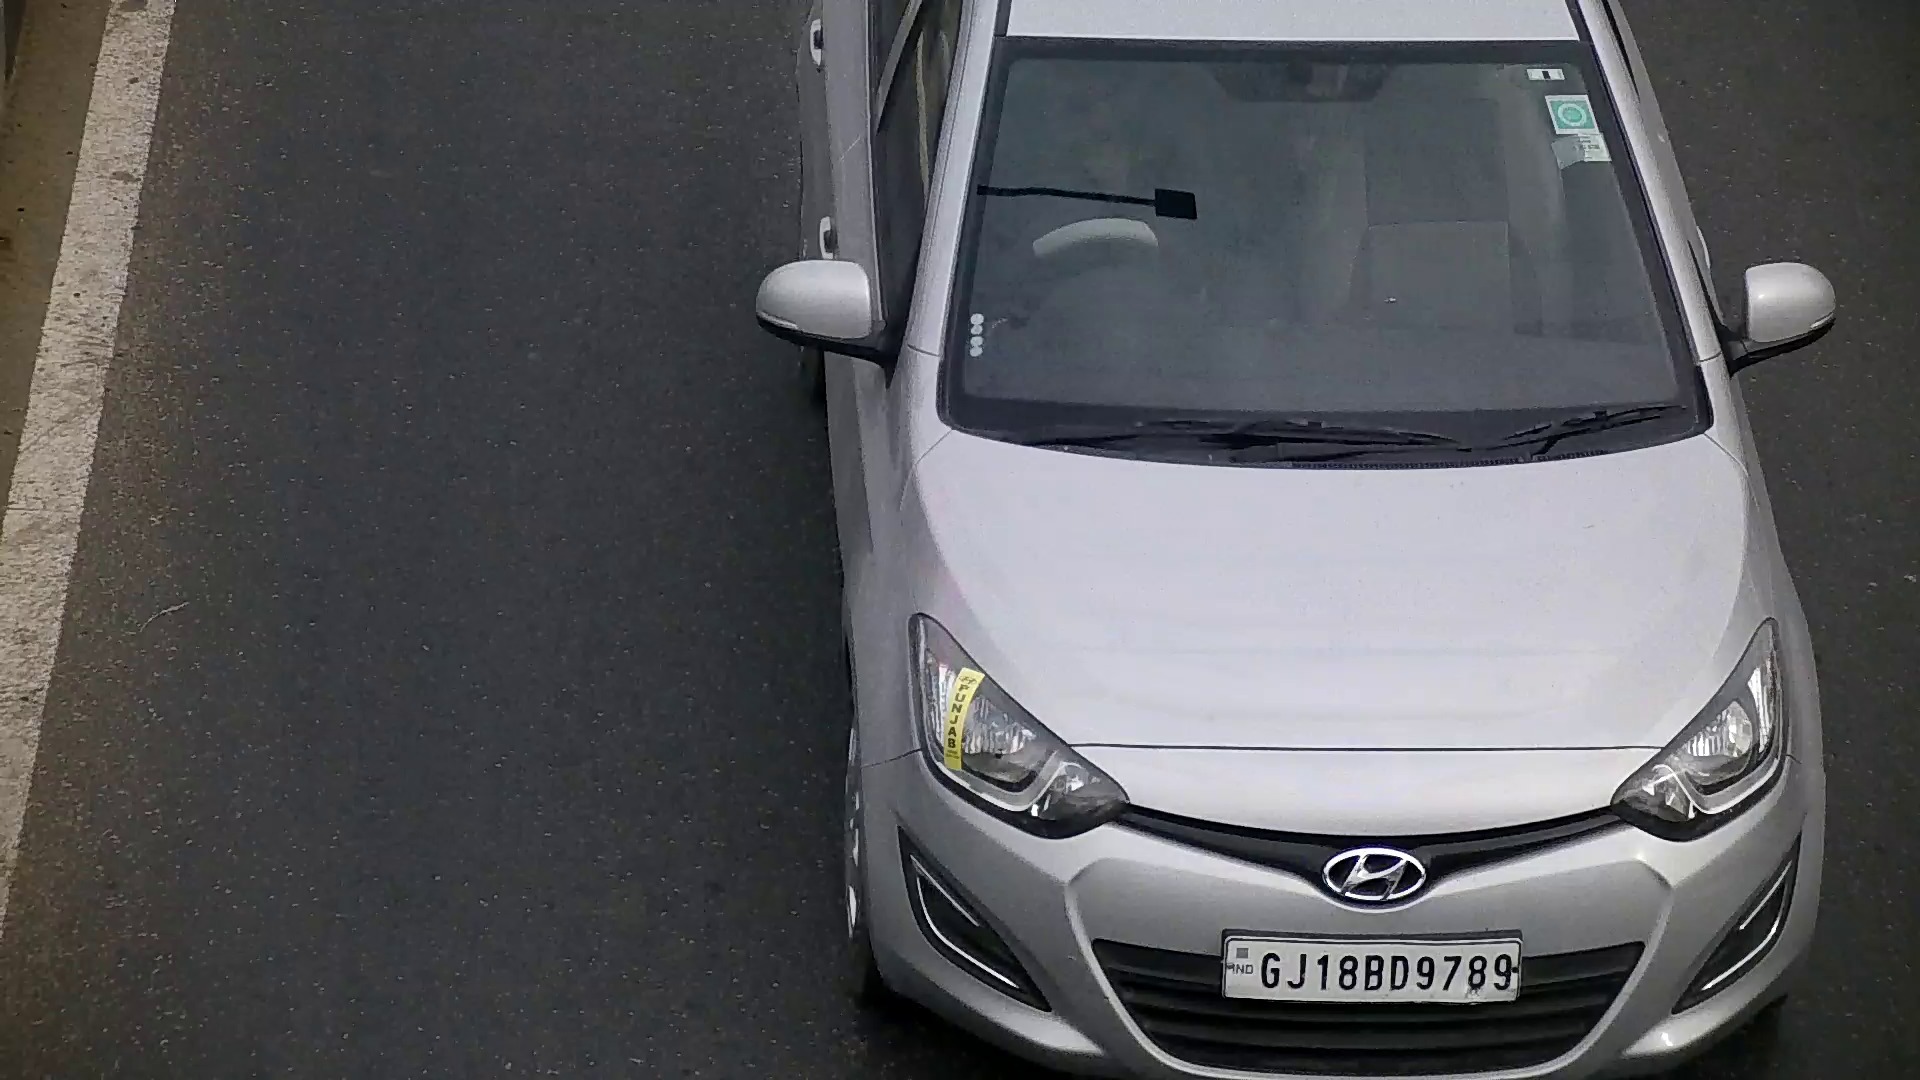numberplate: (1222, 926, 1519, 1004)
